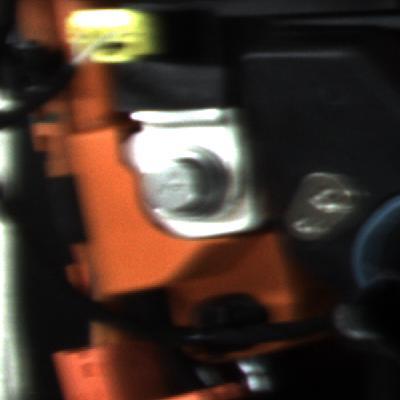nut_b: (147, 147, 227, 225)
